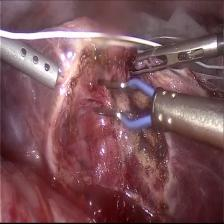Bipolar: (93, 76, 167, 136)
Grasper: (125, 35, 220, 78)
Irrigator: (4, 36, 65, 94)
Specimen Bag: (115, 8, 224, 90)
